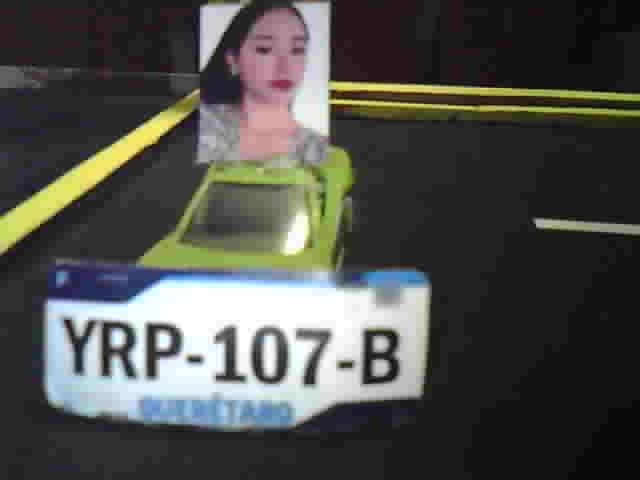PLACA: (40, 258, 435, 437)
ROSTRO: (200, 5, 327, 163)
